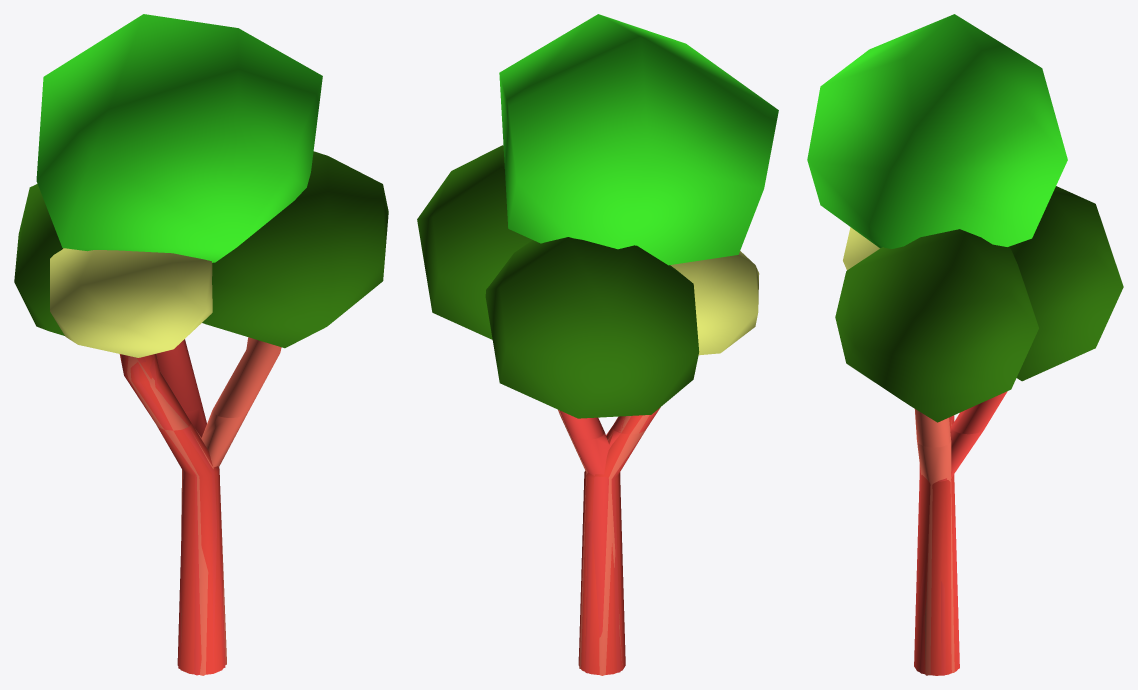
Rendered from tree.gltf.
3 views of the same model, side by side, from view 1: azimuth 30°, elevation 25°; view 2: azimuth 150°, elevation 25°; view 3: azimuth 270°, elevation 25° (orthographic). The views are drawn at different scales.
Visible parts, largest first — view 1: Node2, Node3, Node4, Node5, Node6, Node7, Node1; view 2: Node2, Node1, Node3, Node4, Node7, Node5, Node6; view 3: Node2, Node3, Node1, Node5, Node7, Node6, Node4.
Boxes of the visible parts, x1,y1,x2,y2 form: Node2: [36, 14, 322, 262]; Node3: [202, 151, 388, 348]; Node4: [50, 248, 212, 357]; Node5: [120, 354, 223, 674]; Node6: [127, 337, 281, 675]; Node7: [119, 339, 225, 675]; Node1: [14, 184, 64, 335]; Node2: [499, 14, 778, 265]; Node1: [485, 237, 699, 418]; Node3: [417, 145, 532, 339]; Node4: [670, 251, 759, 355]; Node7: [560, 409, 657, 673]; Node5: [578, 408, 659, 674]; Node6: [558, 407, 660, 675]; Node2: [807, 14, 1067, 248]; Node3: [835, 229, 1038, 422]; Node1: [1009, 186, 1123, 381]; Node5: [914, 417, 957, 675]; Node7: [914, 391, 1007, 675]; Node6: [914, 409, 954, 675]; Node4: [843, 227, 879, 270].
Bounding box in the file's own units: 9.11 × 16.22 × 7.39.
